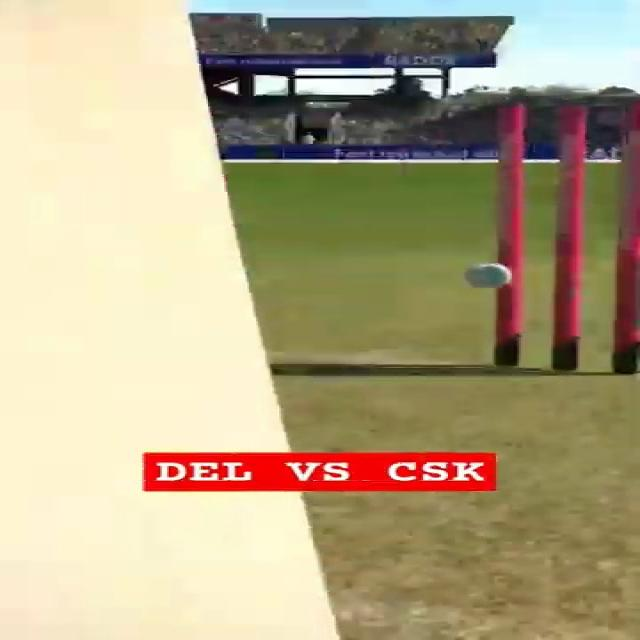ball: (462, 264, 510, 289)
